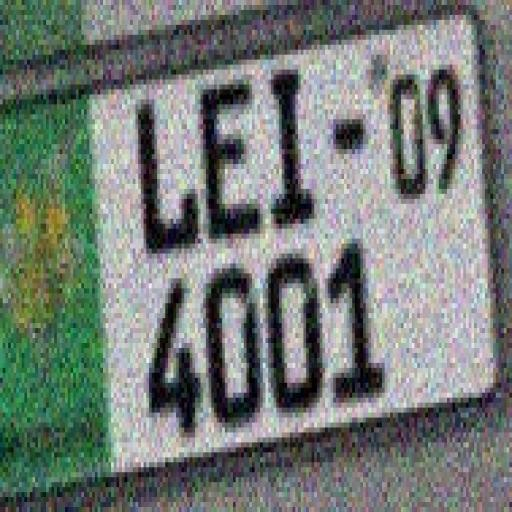0: (265, 244, 319, 418), (204, 269, 255, 430)
1: (322, 241, 388, 405)
4: (137, 272, 201, 446)
E: (200, 82, 258, 236)
I: (261, 68, 317, 223)
L: (134, 97, 198, 259)
